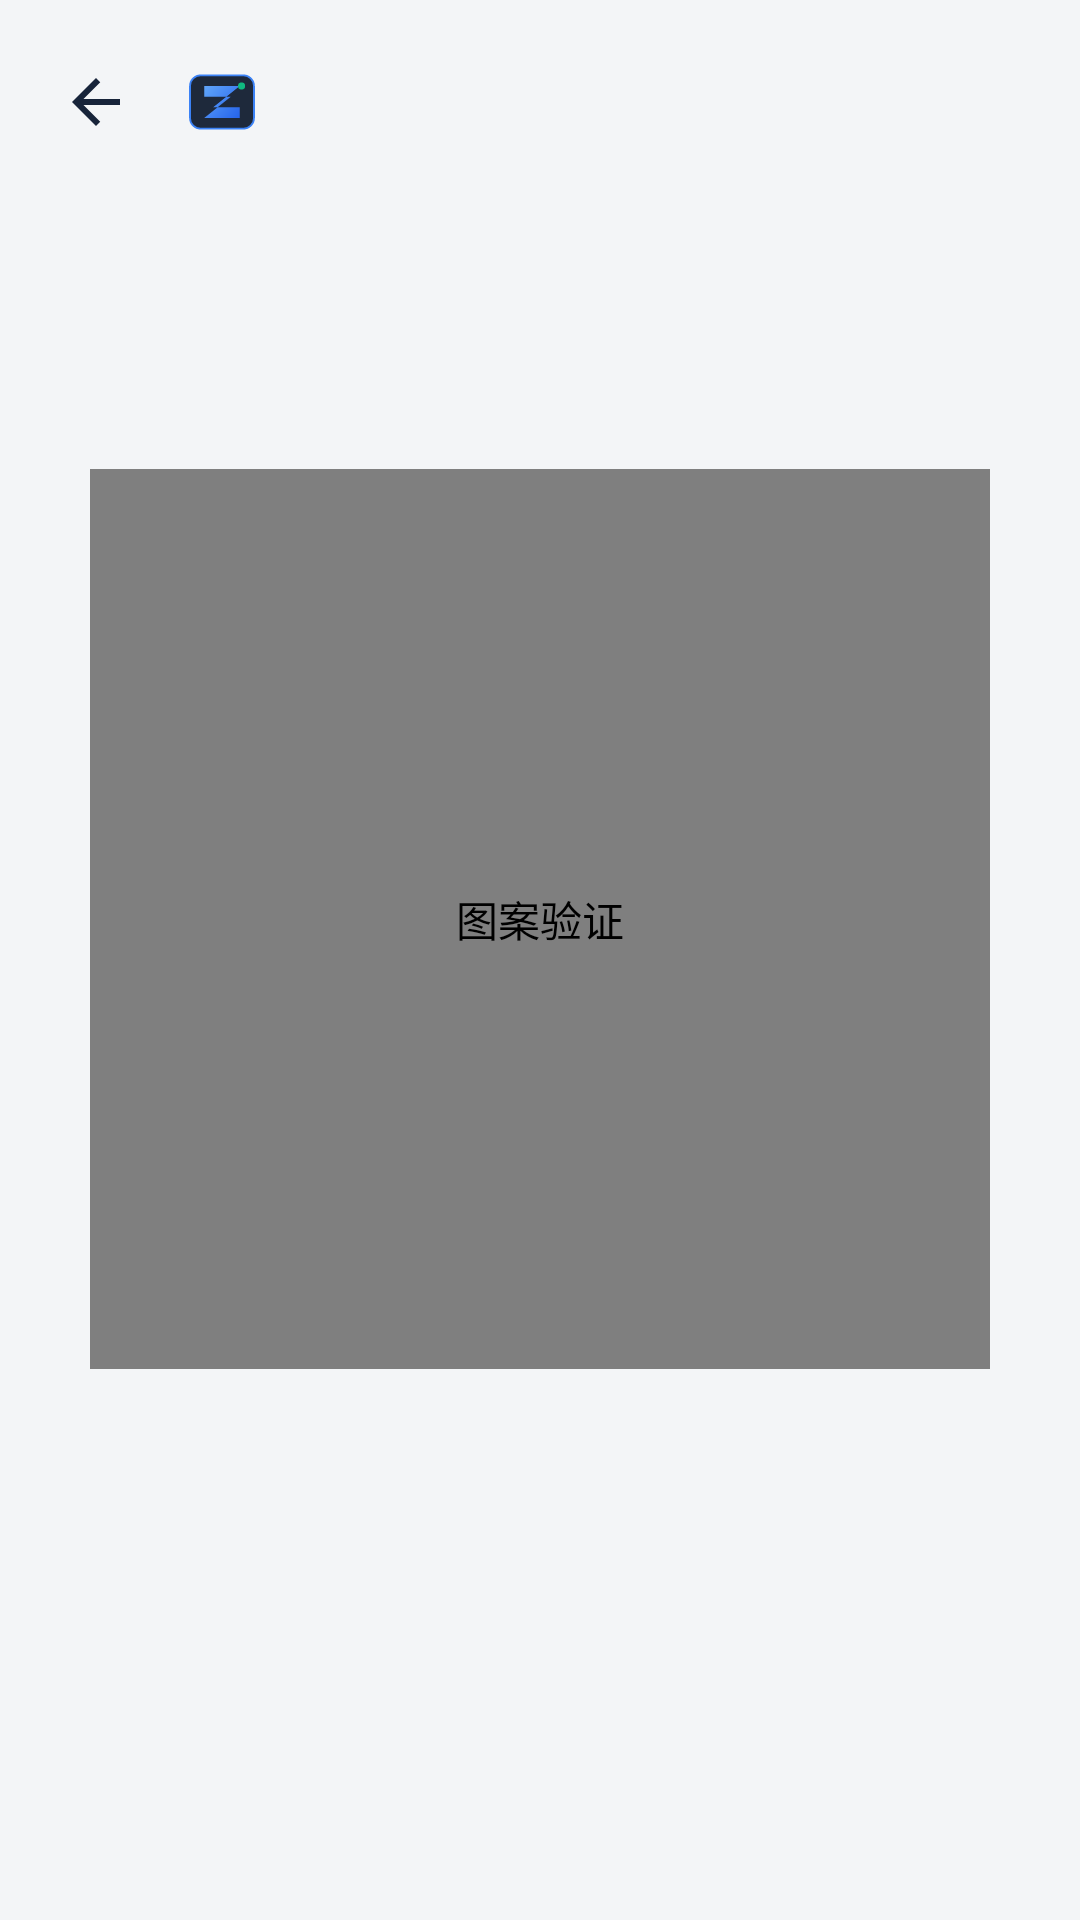

Icons on this 1080x1920 Android screen, each with the point to tap as [x,y]:
返回: [96,102]
